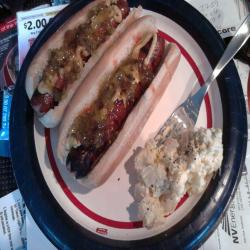hotdog: (10, 1, 184, 184)
